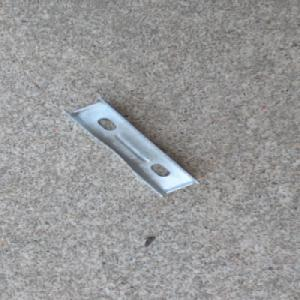ClampPart: (62, 98, 200, 196)
